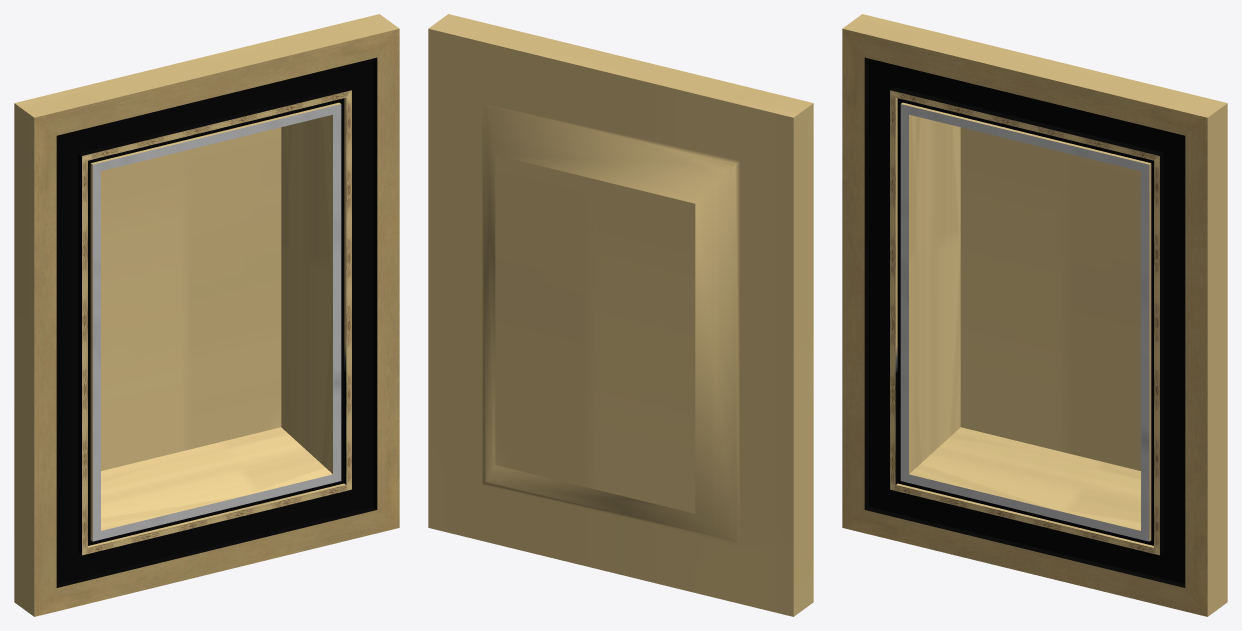
The model's file is frame.fbx.
3 views of the same model, side by side, from view 1: azimuth 30°, elevation 25°; view 2: azimuth 150°, elevation 25°; view 3: azimuth 330°, elevation 25° (orthographic).
Visible parts, largest first — view 1: item_frame; view 2: item_frame; view 3: item_frame.
Boxes of the visible parts, x1,y1,x2,y2 form: item_frame: [14, 14, 399, 616]; item_frame: [428, 14, 813, 616]; item_frame: [842, 14, 1227, 616].
Size of the model in its own units: 1.1 by 1.44 by 0.1873.
Materials: 1 (1 with a texture image).
